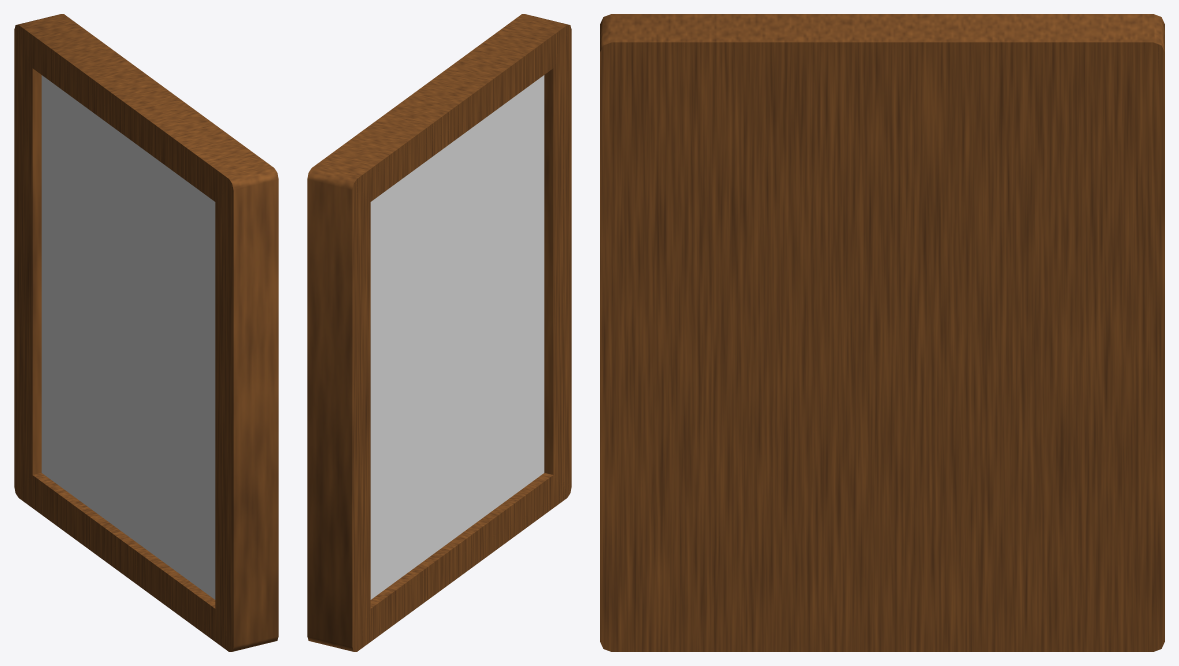
Rendered from Mirror.glb.
3 views of the same model, side by side, from view 1: azimuth 30°, elevation 25°; view 2: azimuth 150°, elevation 25°; view 3: azimuth 270°, elevation 25° (orthographic). The views are drawn at different scales.
Parts seen in each view (by area): view 1: Mirror; view 2: Mirror; view 3: Mirror.
Part boxes in pixels (x1,y1,x2,y2): Mirror: (14,14,278,651); Mirror: (307,14,571,651); Mirror: (600,14,1164,651).
Bounding box in the file's own units: 0.1 × 1 × 0.84.
1 material, 1 textured.
